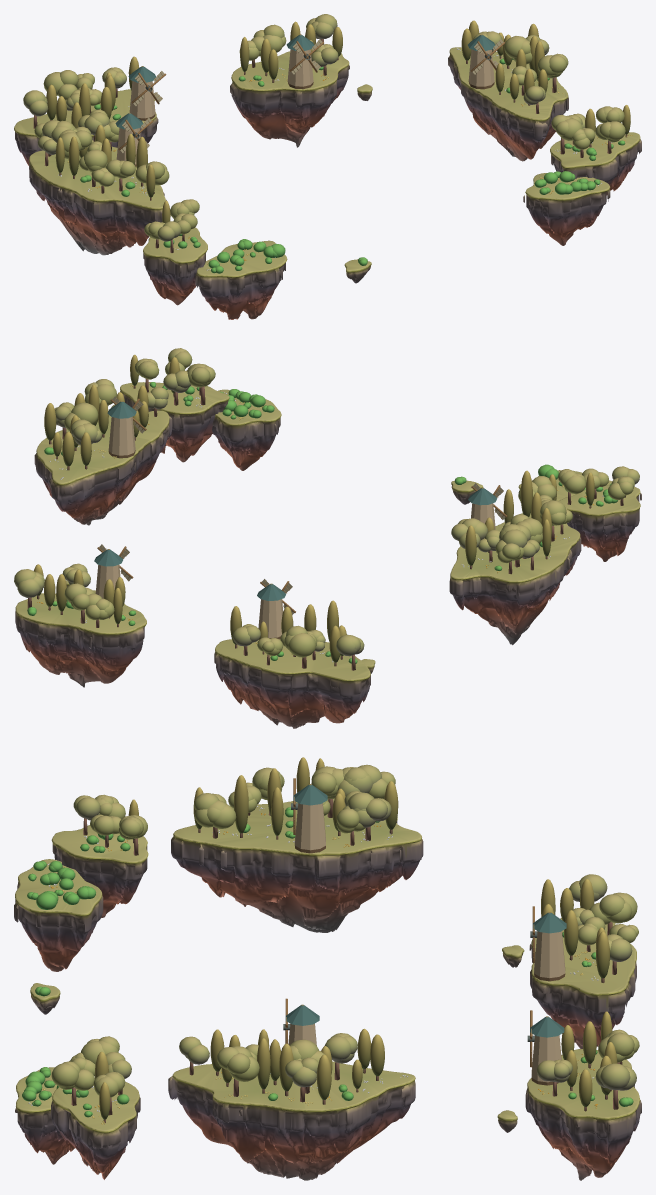
The model's file is windrose.glb.
3 renders of one model, top to bottom at view 1: azimuth 30°, elevation 25°; view 2: azimuth 150°, elevation 25°; view 3: azimuth 270°, elevation 25°, orthographic. The views are drawn at different scales.
Parts seen in each view (by area): view 1: decor_leaves, decor_m06, decor_m01, decor_m07, decor_solid, decor_m03, decor_m04, decor_m04.001, decor_m03.001, decor_m00, decor_trunks; view 2: decor_leaves, decor_m00, decor_m06, decor_m01, decor_m07, decor_solid, decor_m04.001, decor_m03.001, decor_m04, decor_trunks; view 3: decor_leaves, decor_m06, decor_m07, decor_m01, decor_solid, decor_m00, decor_m03, decor_m03.001, decor_m04.001, decor_m04, decor_trunks.
Part boxes in pixels (x1=…): decor_leaves: x1=23, y1=14, x2=630, y2=273; decor_m06: x1=29, y1=140, x2=166, y2=255; decor_m01: x1=230, y1=51, x2=349, y2=147; decor_m07: x1=448, y1=47, x2=568, y2=161; decor_solid: x1=115, y1=34, x2=505, y2=166; decor_m03: x1=195, y1=240, x2=287, y2=319; decor_m04: x1=523, y1=173, x2=610, y2=245; decor_m04.001: x1=143, y1=227, x2=207, y2=305; decor_m03.001: x1=550, y1=132, x2=641, y2=195; decor_m00: x1=14, y1=89, x2=158, y2=165; decor_trunks: x1=33, y1=39, x2=627, y2=252; decor_leaves: x1=14, y1=348, x2=639, y2=663; decor_m00: x1=214, y1=639, x2=370, y2=728; decor_m06: x1=449, y1=504, x2=581, y2=645; decor_m01: x1=15, y1=590, x2=146, y2=687; decor_m07: x1=34, y1=410, x2=172, y2=525; decor_solid: x1=94, y1=396, x2=507, y2=639; decor_m04.001: x1=559, y1=485, x2=641, y2=561; decor_m03.001: x1=120, y1=382, x2=229, y2=462; decor_m04: x1=212, y1=389, x2=281, y2=470; decor_trunks: x1=27, y1=379, x2=625, y2=670; decor_leaves: x1=22, y1=757, x2=639, y2=1119; decor_m06: x1=171, y1=798, x2=423, y2=932; decor_m07: x1=168, y1=1061, x2=415, y2=1180; decor_m01: x1=525, y1=1049, x2=641, y2=1180; decor_solid: x1=283, y1=778, x2=566, y2=1085; decor_m00: x1=529, y1=918, x2=636, y2=1048; decor_m03: x1=14, y1=859, x2=103, y2=971; decor_m03.001: x1=51, y1=1081, x2=140, y2=1179; decor_m04.001: x1=51, y1=825, x2=148, y2=917; decor_m04: x1=15, y1=1067, x2=74, y2=1164; decor_trunks: x1=71, y1=799, x2=622, y2=1122.
Size of the model in its own units: 36.05 by 12.19 by 30.49.
